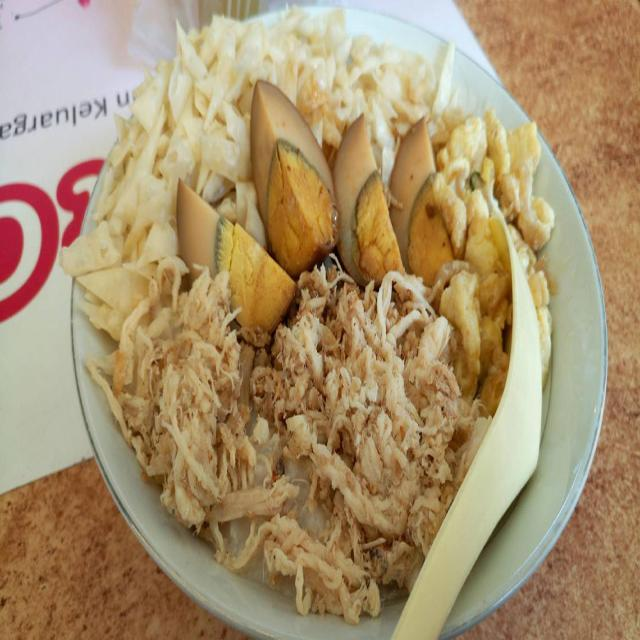bubur ayam: (117, 51, 549, 615)
piring: (69, 3, 606, 640)
telur rebus: (178, 178, 296, 337), (246, 80, 338, 279), (332, 114, 402, 292), (386, 114, 454, 293)
